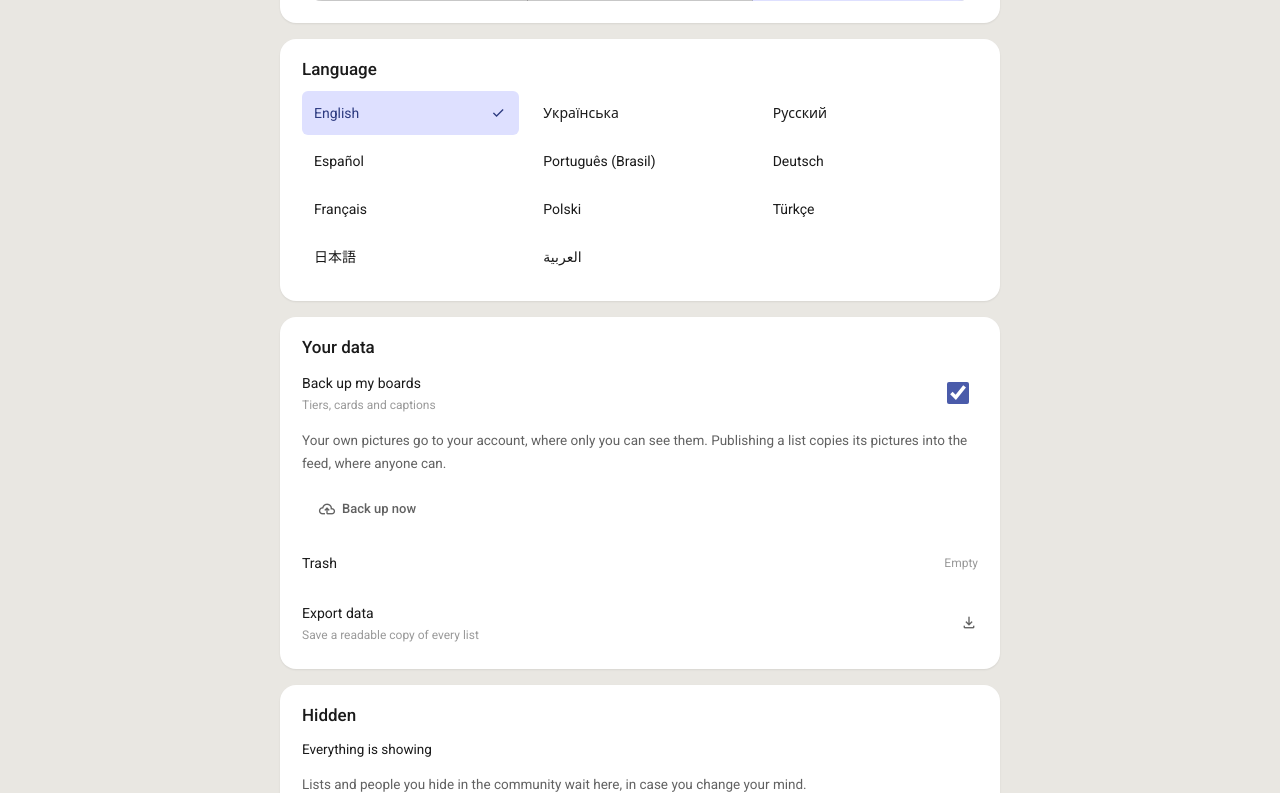
SettingsPage › keeps the back-up on, and says so, when the account would not delete the copy
(page scrolled)
Click the switch labelled "Back up my boards Tiers, cards and captions" at {"x": 958, "y": 394}, box [938, 382, 978, 404]
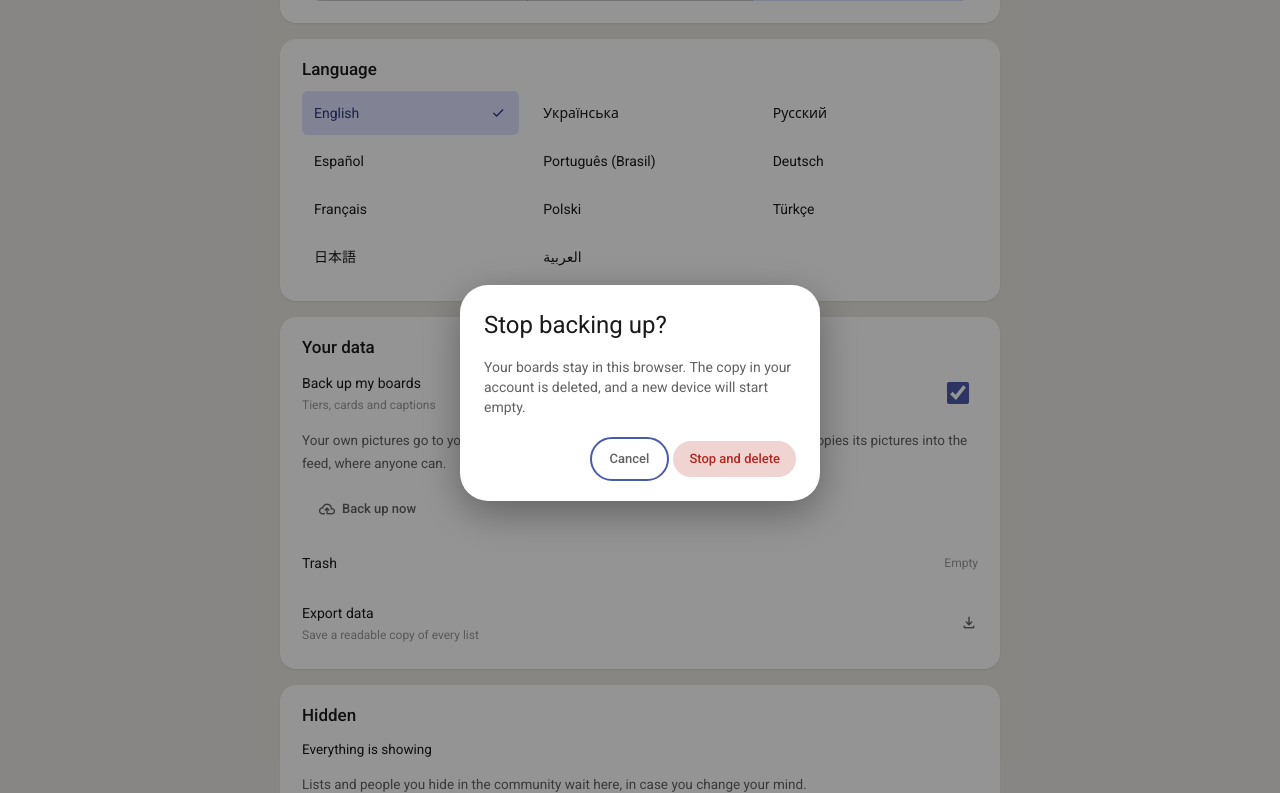
Click the button "Stop and delete" at {"x": 735, "y": 459}, box [673, 441, 796, 477]
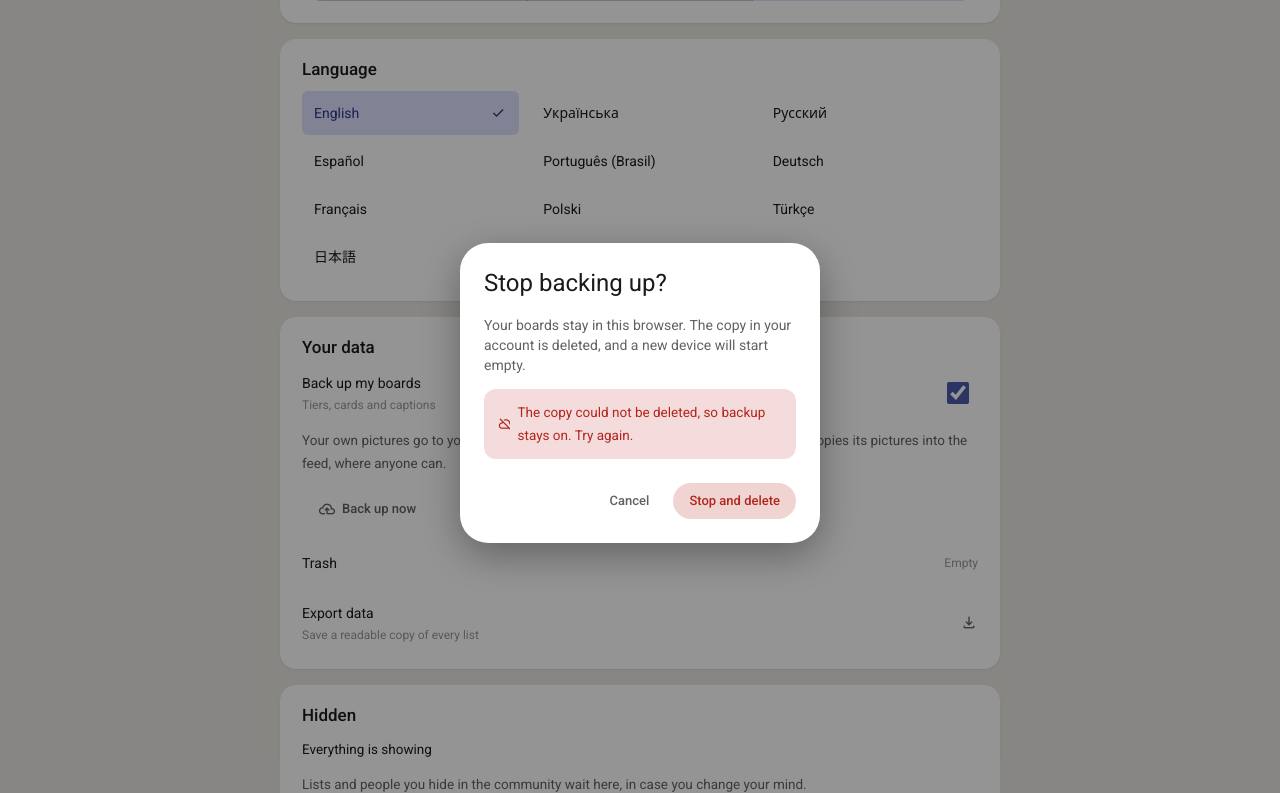
expect the switch labelled "Back up my boards Tiers, cards and captions" is checked: met, box [938, 382, 978, 404]
expect the dialog is shown: met, box [460, 243, 820, 543]
expect the message reads "The copy could not be deleted, so backup stays on. Try again.": met, box [518, 404, 765, 443]
Click the button "Stop and delete" at {"x": 735, "y": 501}, box [673, 483, 796, 519]
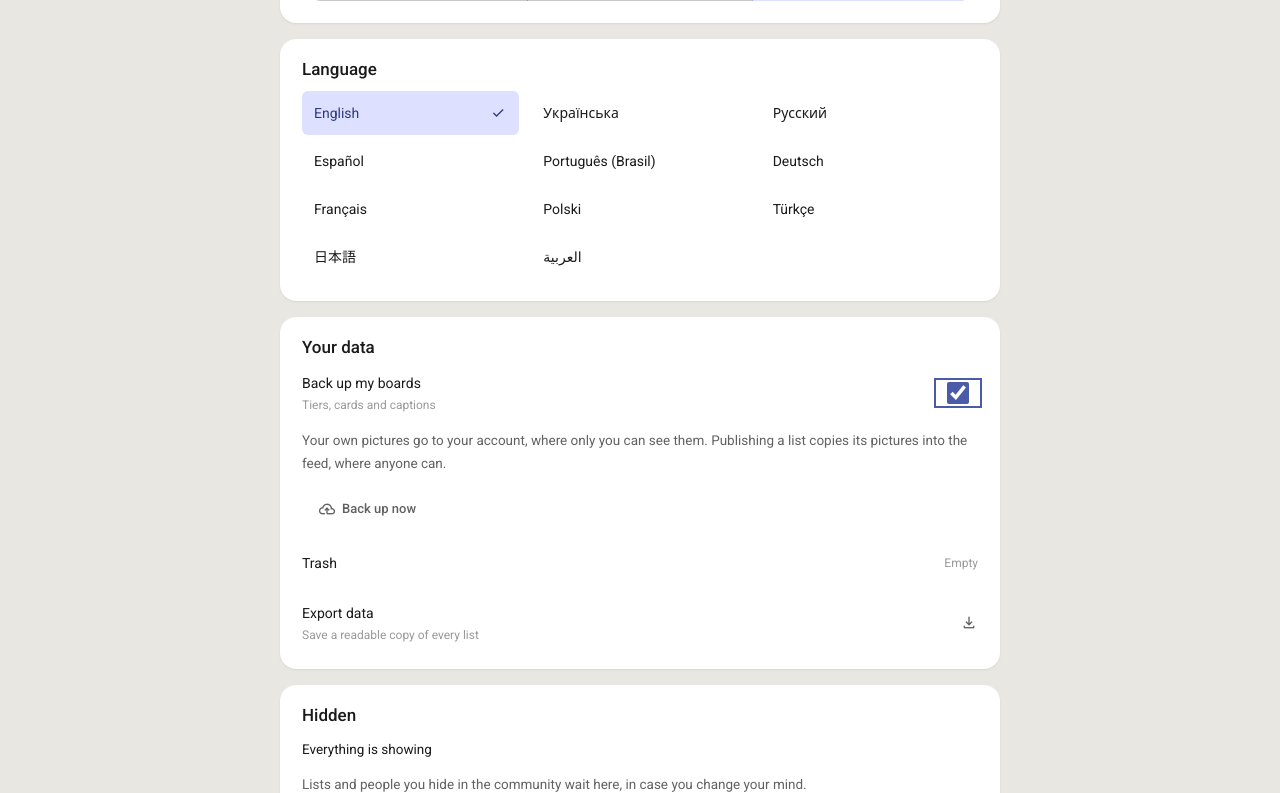
expect the dialog is gone: met
